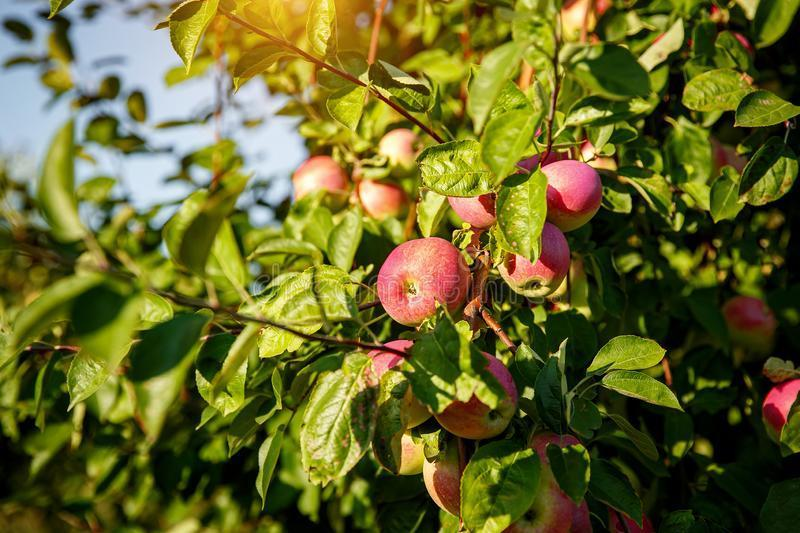apple: (376, 235, 472, 327), (498, 220, 572, 297), (542, 159, 603, 232)
